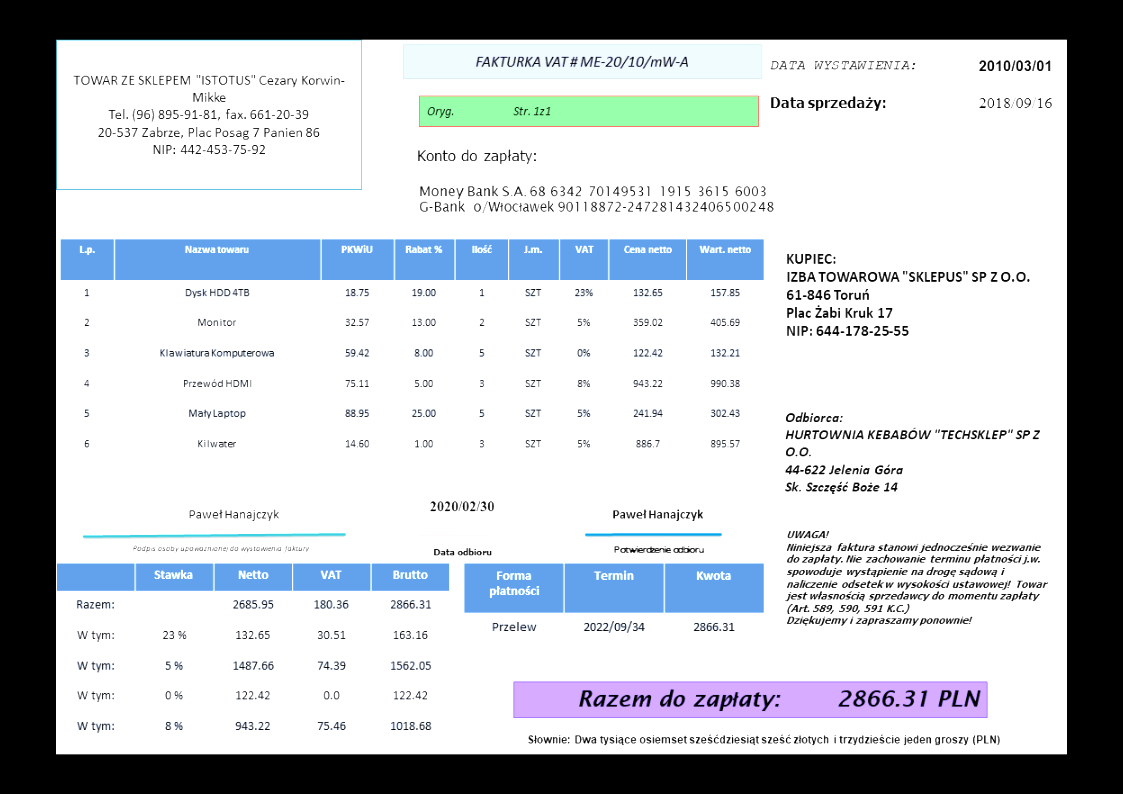Table: (58, 236, 765, 464), (57, 562, 451, 745), (463, 562, 765, 650)
TextBox: (785, 527, 1052, 628), (71, 73, 346, 157), (782, 408, 1041, 496), (783, 248, 1032, 339), (575, 684, 984, 715), (416, 184, 777, 214), (525, 731, 1003, 750), (474, 53, 692, 71), (769, 56, 918, 75), (414, 147, 538, 167), (768, 94, 889, 114), (129, 542, 310, 555), (425, 105, 553, 120), (610, 506, 705, 525), (186, 504, 281, 522), (977, 95, 1056, 113), (975, 57, 1052, 75), (611, 543, 707, 556), (428, 498, 495, 516), (431, 546, 494, 558)
